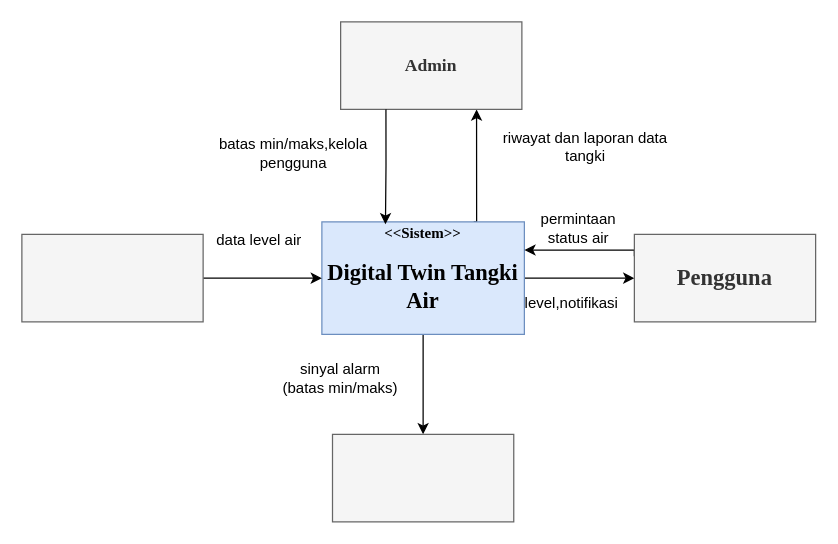
The diagram is 838 pixels wide and 544 high, and some of its shapes have lost their labels. The centre of each missing label's shape, as x and y in pixels:
"Alarm" goes at point 422,477.
"Sensor Tangki Air" goes at point 112,277.
